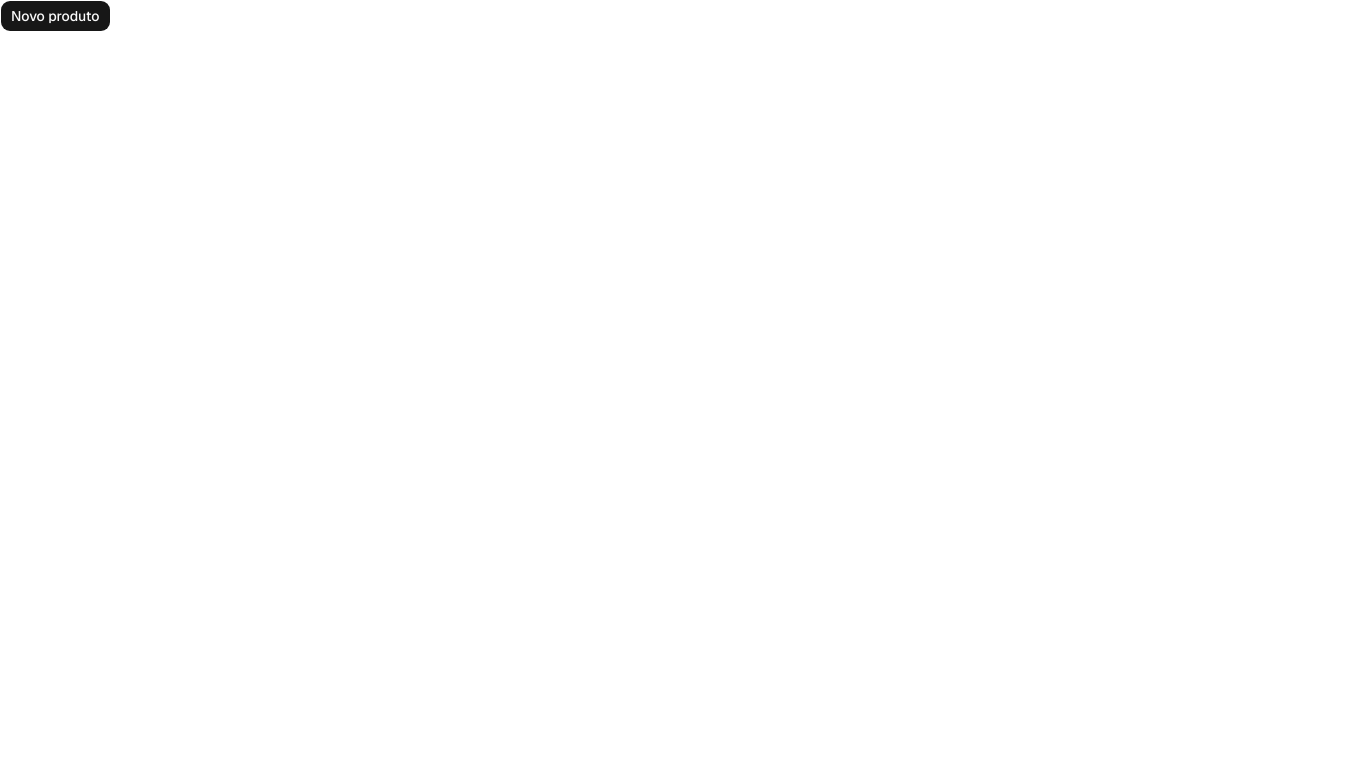
Test: CreateProductDialog › shows field errors under their field with the dialog open
Click the button "Novo produto": point(55, 16) x1=0 y1=0 x2=110 y2=32
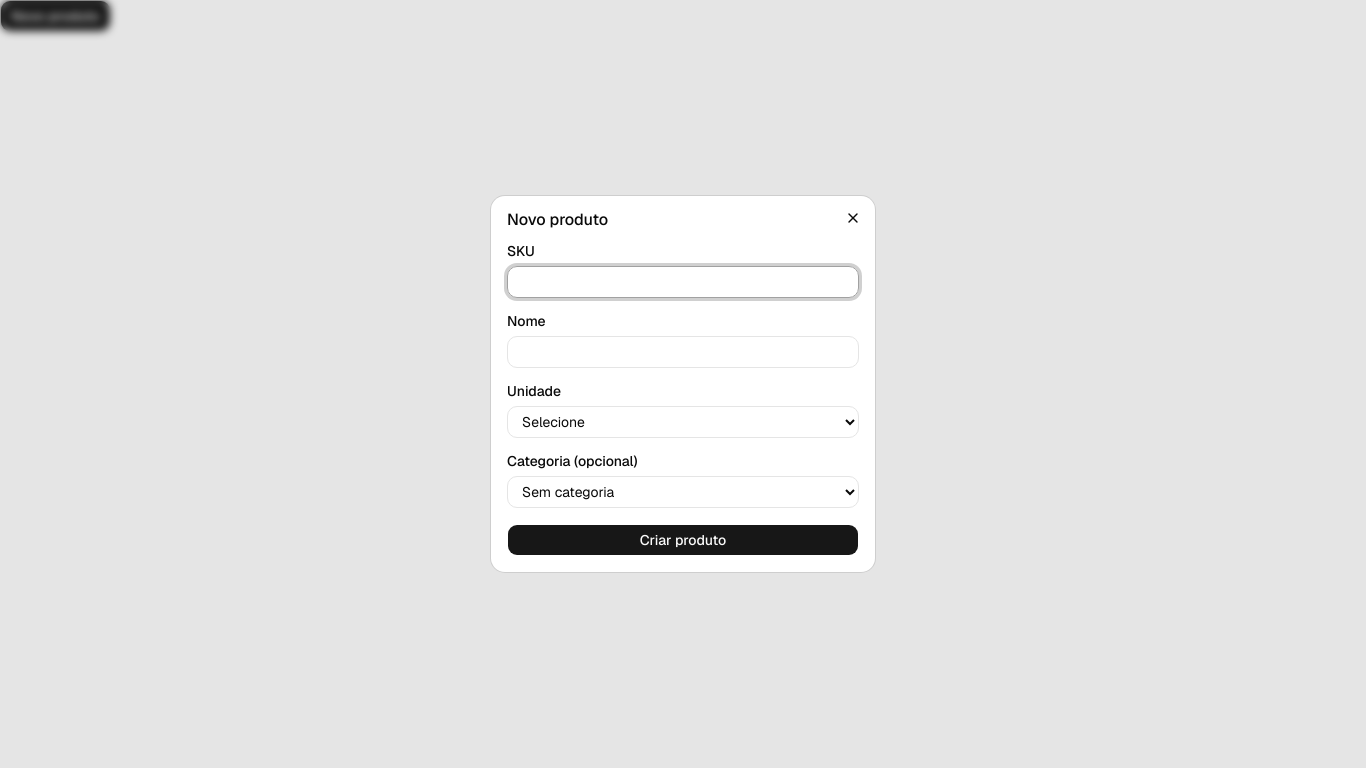
Now the dialog is shown, box x1=491 y1=196 x2=875 y2=572
In the field labelled "SKU": point(683, 282) x1=507 y1=266 x2=859 y2=298, type "ab-1"
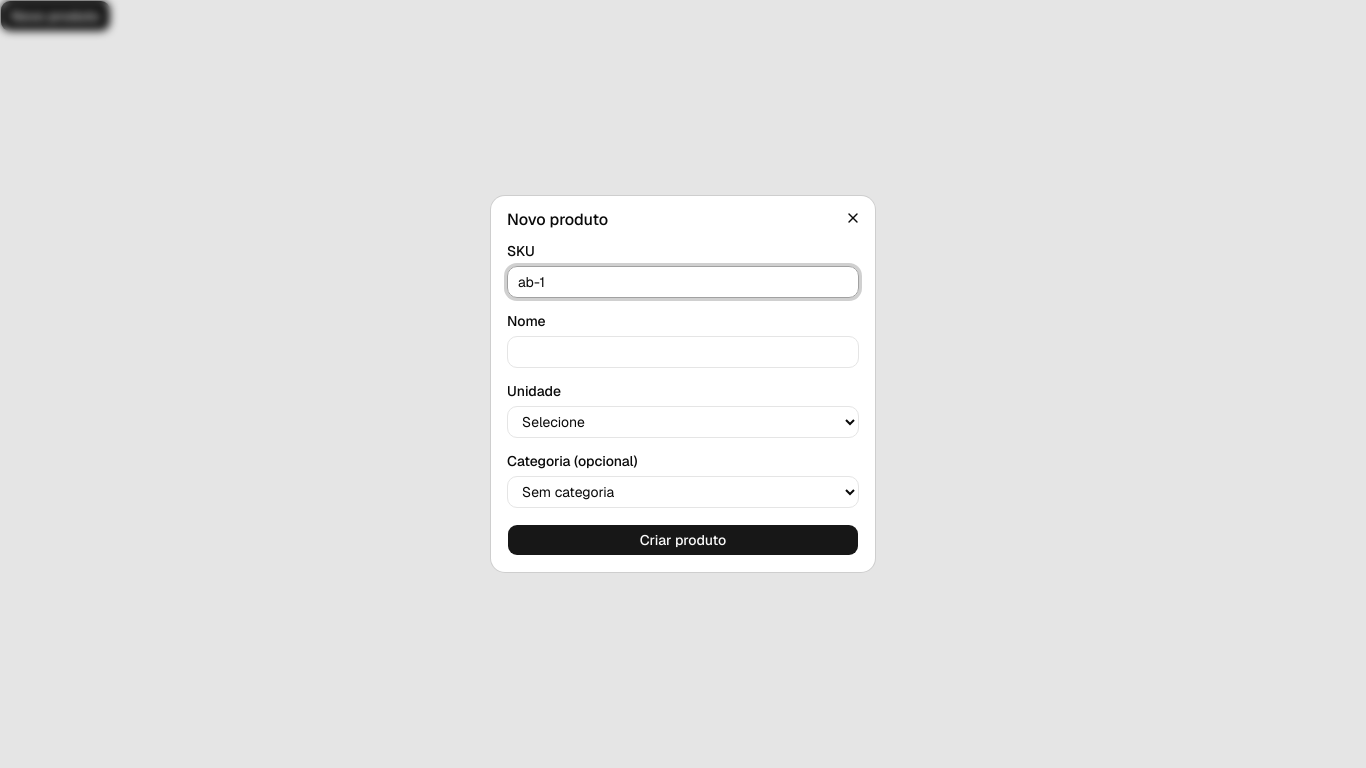
In the field labelled "Nome": point(683, 352) x1=507 y1=336 x2=859 y2=368, type "Água"
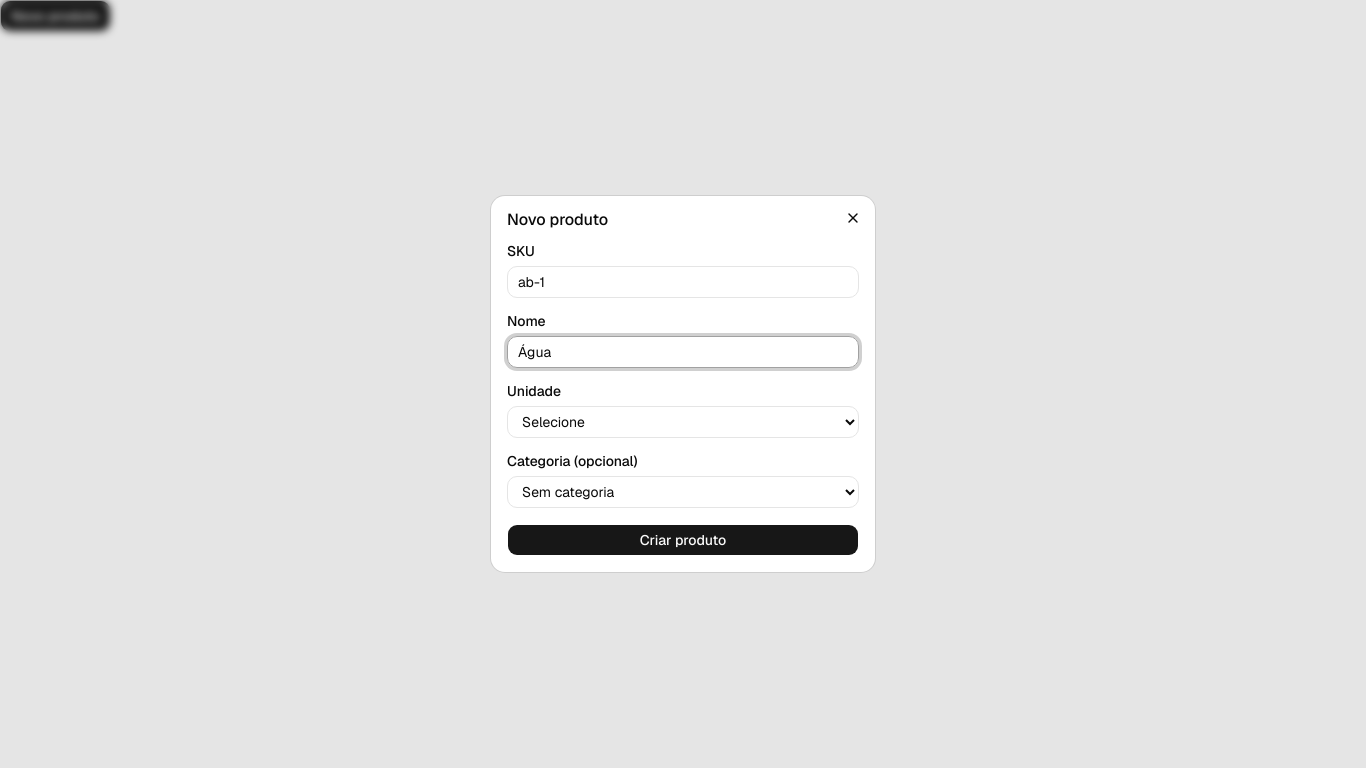
Select "Quilograma (KG)" in the dropdown labelled "Unidade": point(683, 422) x1=507 y1=406 x2=859 y2=438
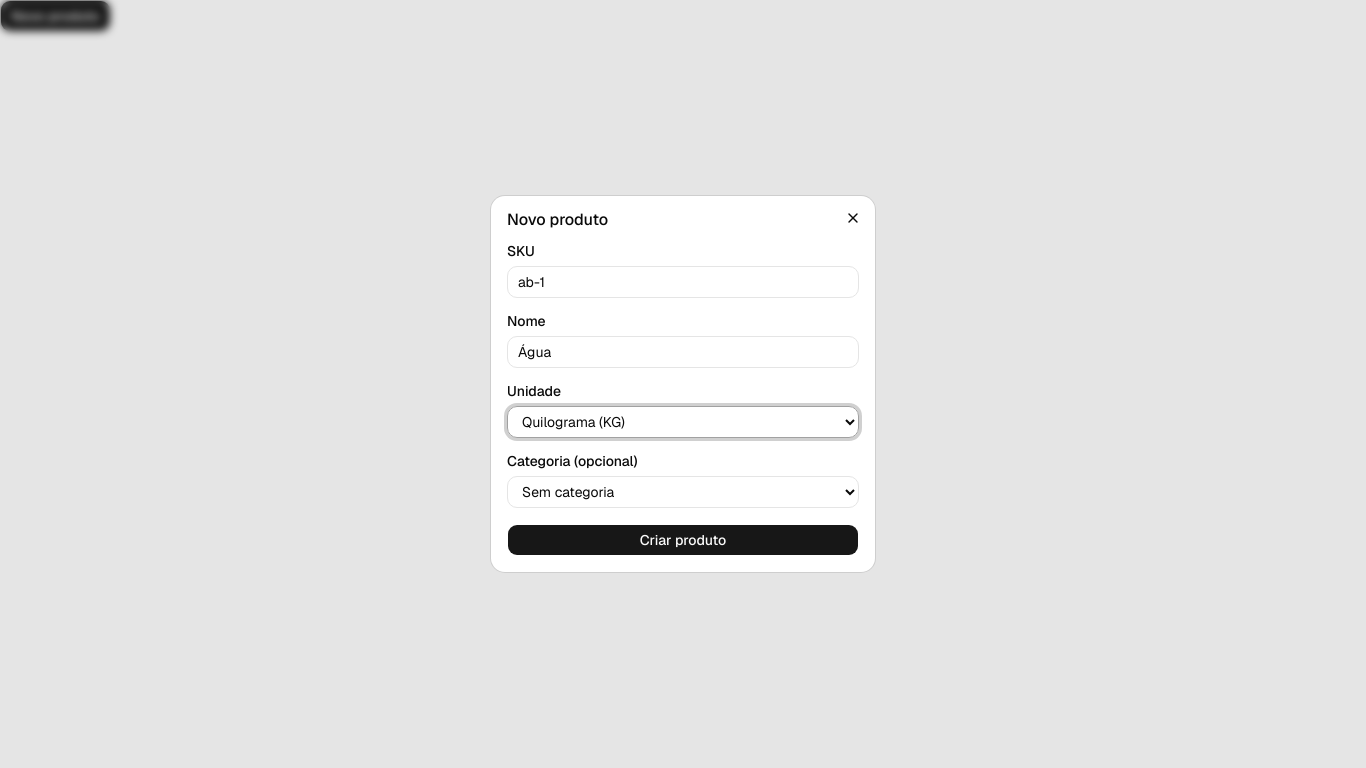
Click the button "Criar produto": point(683, 540) x1=507 y1=524 x2=859 y2=556
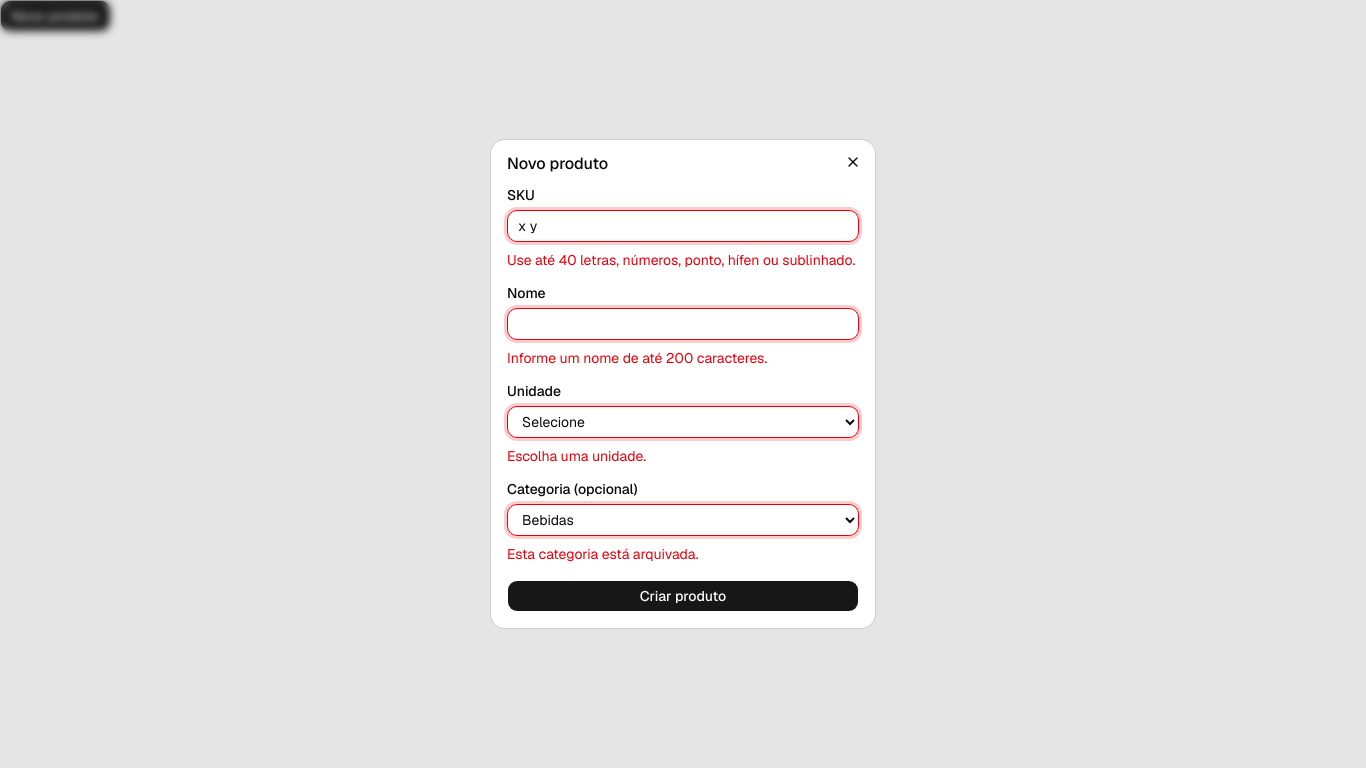
Now the text "Use até 40 letras, números, ponto, hífen ou sublinhado." is shown, box x1=507 y1=250 x2=859 y2=270
Now the text "Informe um nome de até 200 caracteres." is shown, box x1=507 y1=349 x2=767 y2=367
Now the text "Escolha uma unidade." is shown, box x1=507 y1=447 x2=646 y2=465
